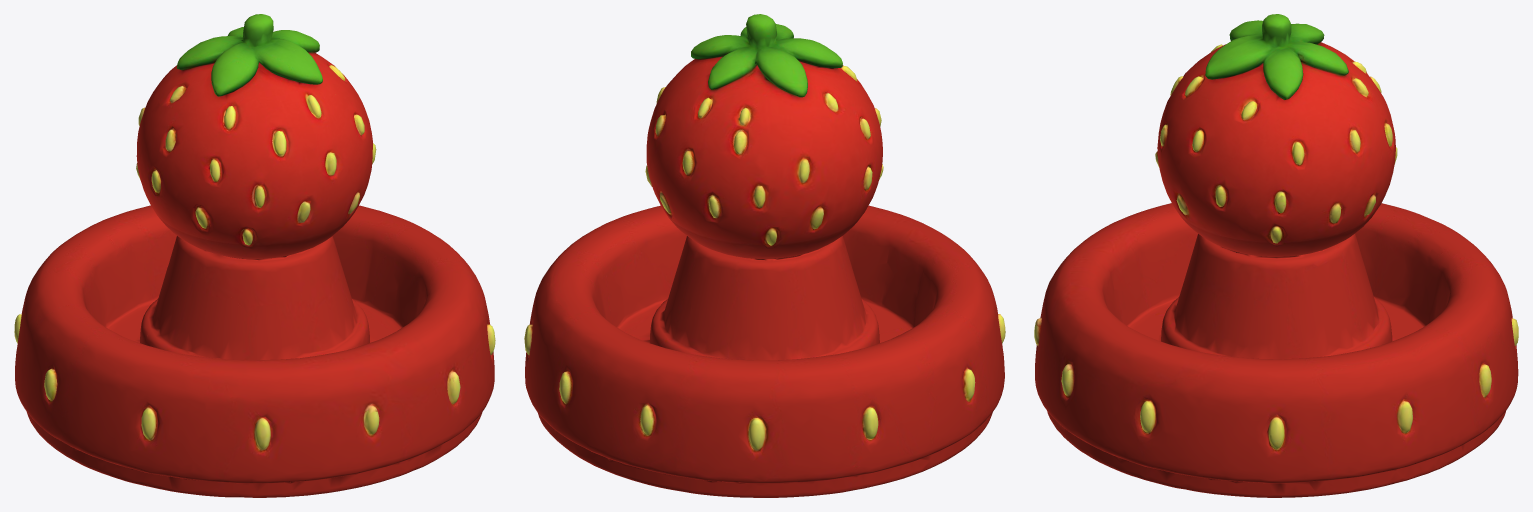
File: mallet-strawberry.glb
The picture shows the model from 3 angles, left to right: view 1: azimuth 30°, elevation 25°; view 2: azimuth 150°, elevation 25°; view 3: azimuth 270°, elevation 25°; orthographic projection.
Visible parts, largest first — view 1: tripo_node_7546db76-4fc7-4d79-8d9e-95654e4e20a5; view 2: tripo_node_7546db76-4fc7-4d79-8d9e-95654e4e20a5; view 3: tripo_node_7546db76-4fc7-4d79-8d9e-95654e4e20a5.
Boxes of the visible parts, <box> form: tripo_node_7546db76-4fc7-4d79-8d9e-95654e4e20a5: <box>14,14,495,497</box>; tripo_node_7546db76-4fc7-4d79-8d9e-95654e4e20a5: <box>524,14,1005,497</box>; tripo_node_7546db76-4fc7-4d79-8d9e-95654e4e20a5: <box>1034,14,1518,497</box>.
Size of the model in its own units: 1 by 0.8801 by 0.9967.
Materials: 1 (1 with a texture image).
